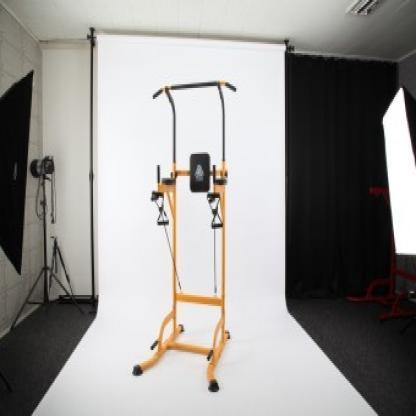chinning dipping: (134, 81, 237, 392)
